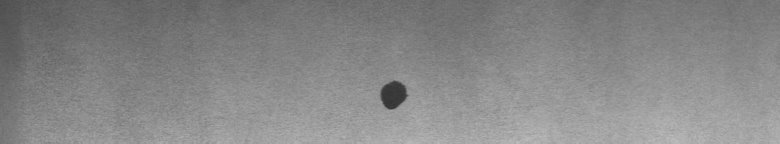fi: (373, 72, 413, 116)
